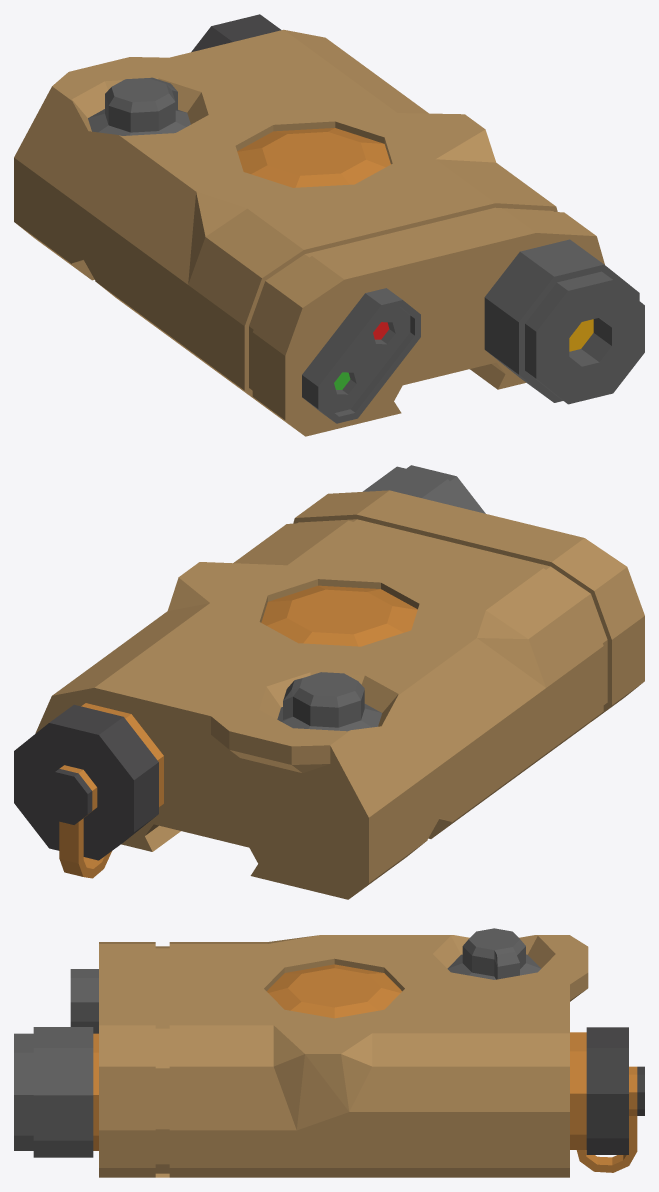
Rendered from att_laser.glb.
3 views of the same model, one above another, from view 1: azimuth 30°, elevation 25°; view 2: azimuth 150°, elevation 25°; view 3: azimuth 270°, elevation 25° (orthographic). The views are drawn at different scales.
Parts seen in each view (by area): view 1: laser_01_0; view 2: laser_01_0; view 3: laser_01_0.
Part boxes in pixels (x1,y1,x2,y2): laser_01_0: (14,14,644,436); laser_01_0: (14,465,644,899); laser_01_0: (14,928,644,1177).
Bounding box in the file's own units: 0.0534 × 0.028 × 0.1022.
Materials: 1 (1 with a texture image).
